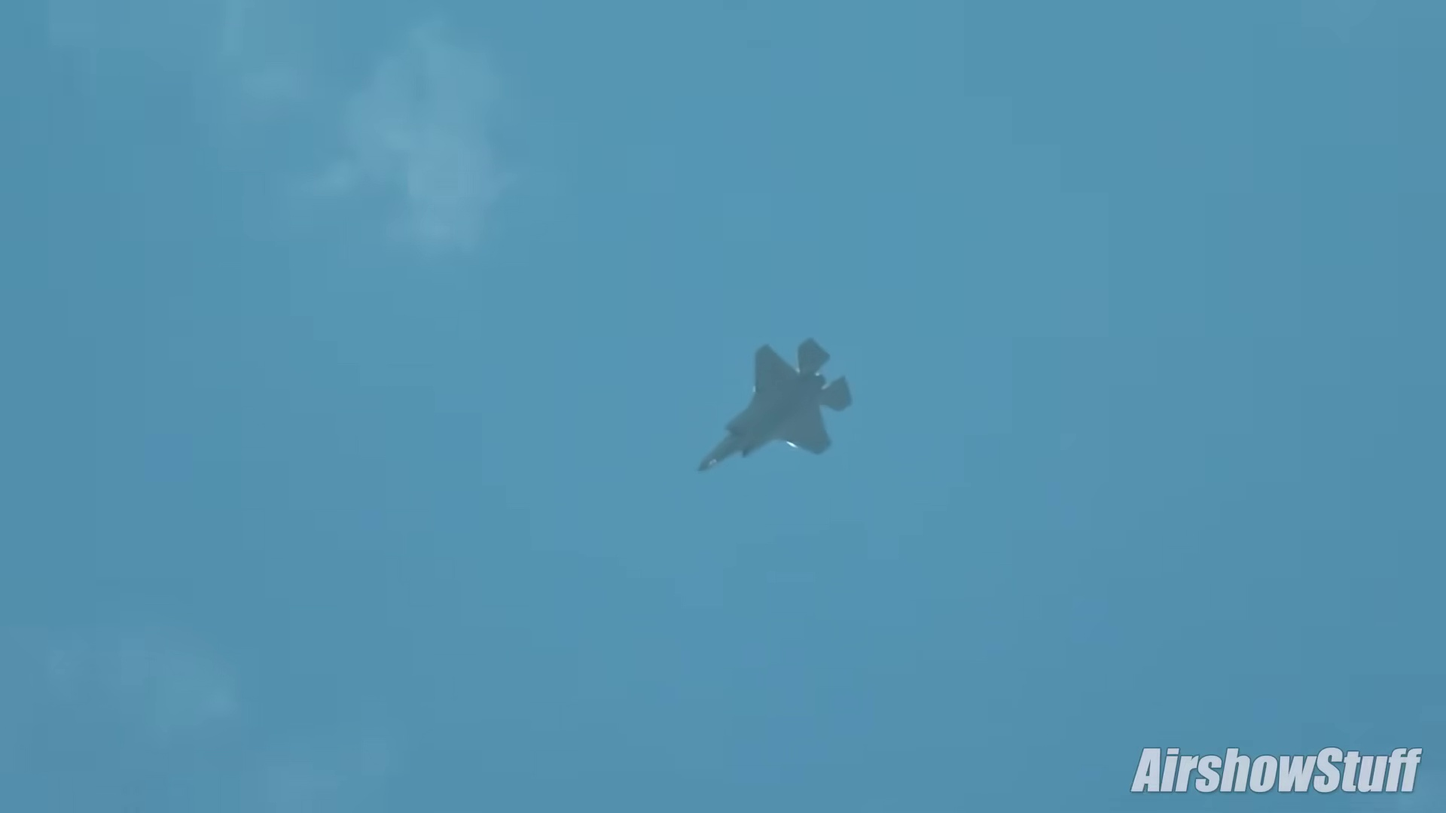F35: (694, 335, 857, 477)
